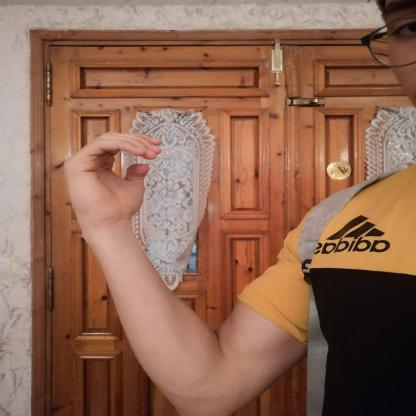JEEM: (46, 121, 176, 235)
